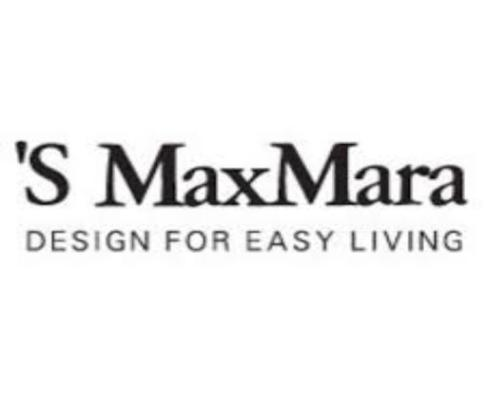MAX-MARA: (93, 139, 472, 208)
